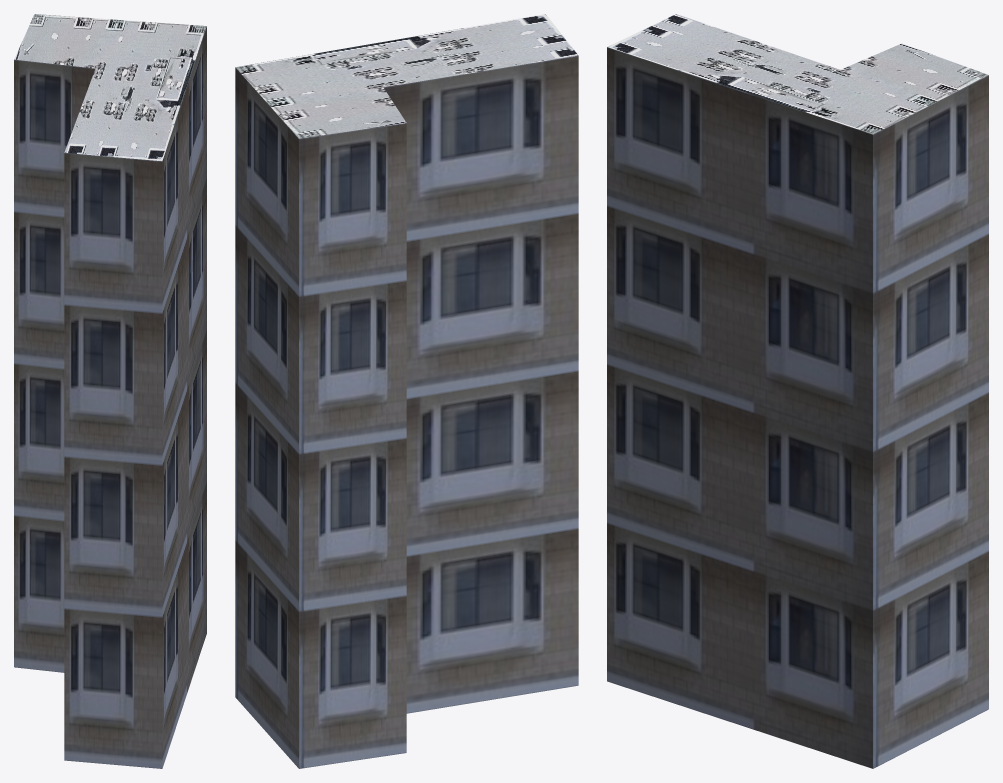
File: ResTex__1039.fbx
The picture shows the model from 3 angles, left to right: view 1: azimuth 30°, elevation 25°; view 2: azimuth 150°, elevation 25°; view 3: azimuth 270°, elevation 25°; orthographic projection. The views are drawn at different scales.
Parts seen in each view (by area): view 1: CityEngineMaterial_3_m, CityEngineMaterial_2_m; view 2: CityEngineMaterial_3_m, CityEngineMaterial_2_m; view 3: CityEngineMaterial_3_m, CityEngineMaterial_2_m.
Boxes of the visible parts, x1=… form: CityEngineMaterial_3_m: x1=14, y1=26, x2=206, y2=768; CityEngineMaterial_2_m: x1=14, y1=14, x2=206, y2=161; CityEngineMaterial_3_m: x1=235, y1=55, x2=578, y2=768; CityEngineMaterial_2_m: x1=235, y1=14, x2=578, y2=138; CityEngineMaterial_3_m: x1=607, y1=47, x2=988, y2=768; CityEngineMaterial_2_m: x1=607, y1=14, x2=988, y2=134.
Bounding box in the file's own units: 4.89 × 12 × 6.55.
Materials: 2 (2 with a texture image).
